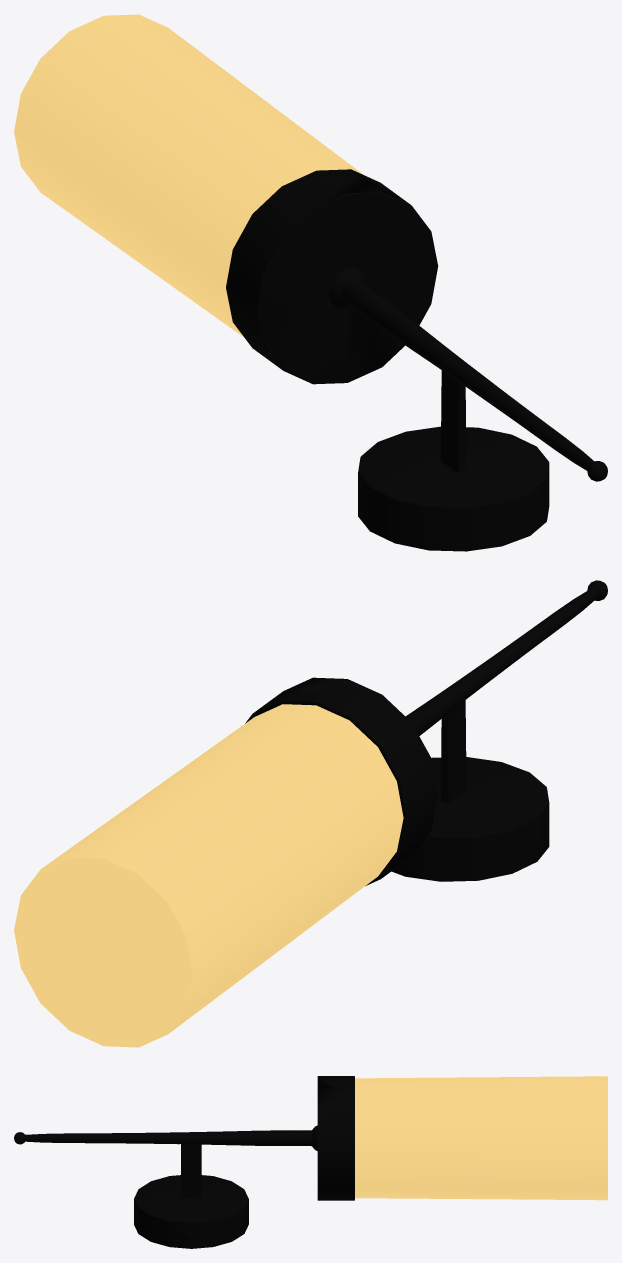
3 renders of one model, top to bottom at view 1: azimuth 30°, elevation 25°; view 2: azimuth 150°, elevation 25°; view 3: azimuth 270°, elevation 25°, orthographic. The views are drawn at different scales.
Parts seen in each view (by area): view 1: lamp_body, emission_body; view 2: emission_body, lamp_body; view 3: emission_body, lamp_body.
Part boxes in pixels (bbox=[...]): lamp_body: bbox=[226, 169, 607, 551]; emission_body: bbox=[14, 14, 363, 337]; emission_body: bbox=[14, 704, 403, 1047]; lamp_body: bbox=[245, 580, 607, 885]; emission_body: bbox=[355, 1076, 607, 1200]; lamp_body: bbox=[14, 1076, 354, 1248].
Bounding box in the file's own units: 0.0994 × 0.1257 × 0.4737.
